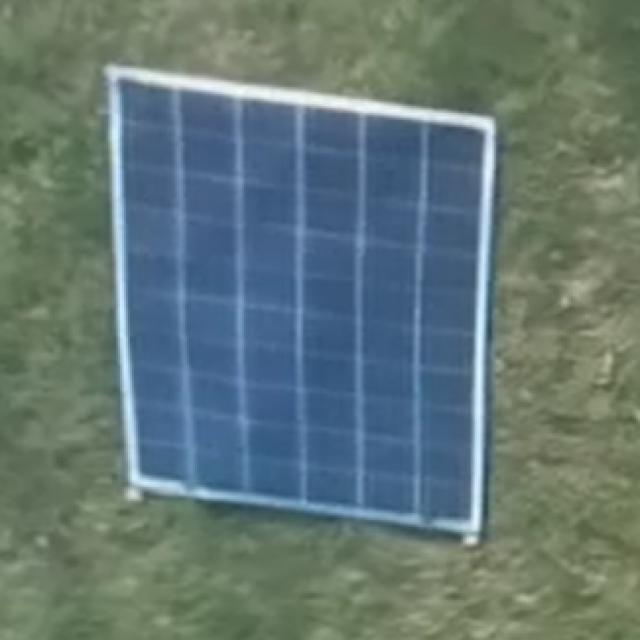no faulty: (108, 75, 483, 530)
